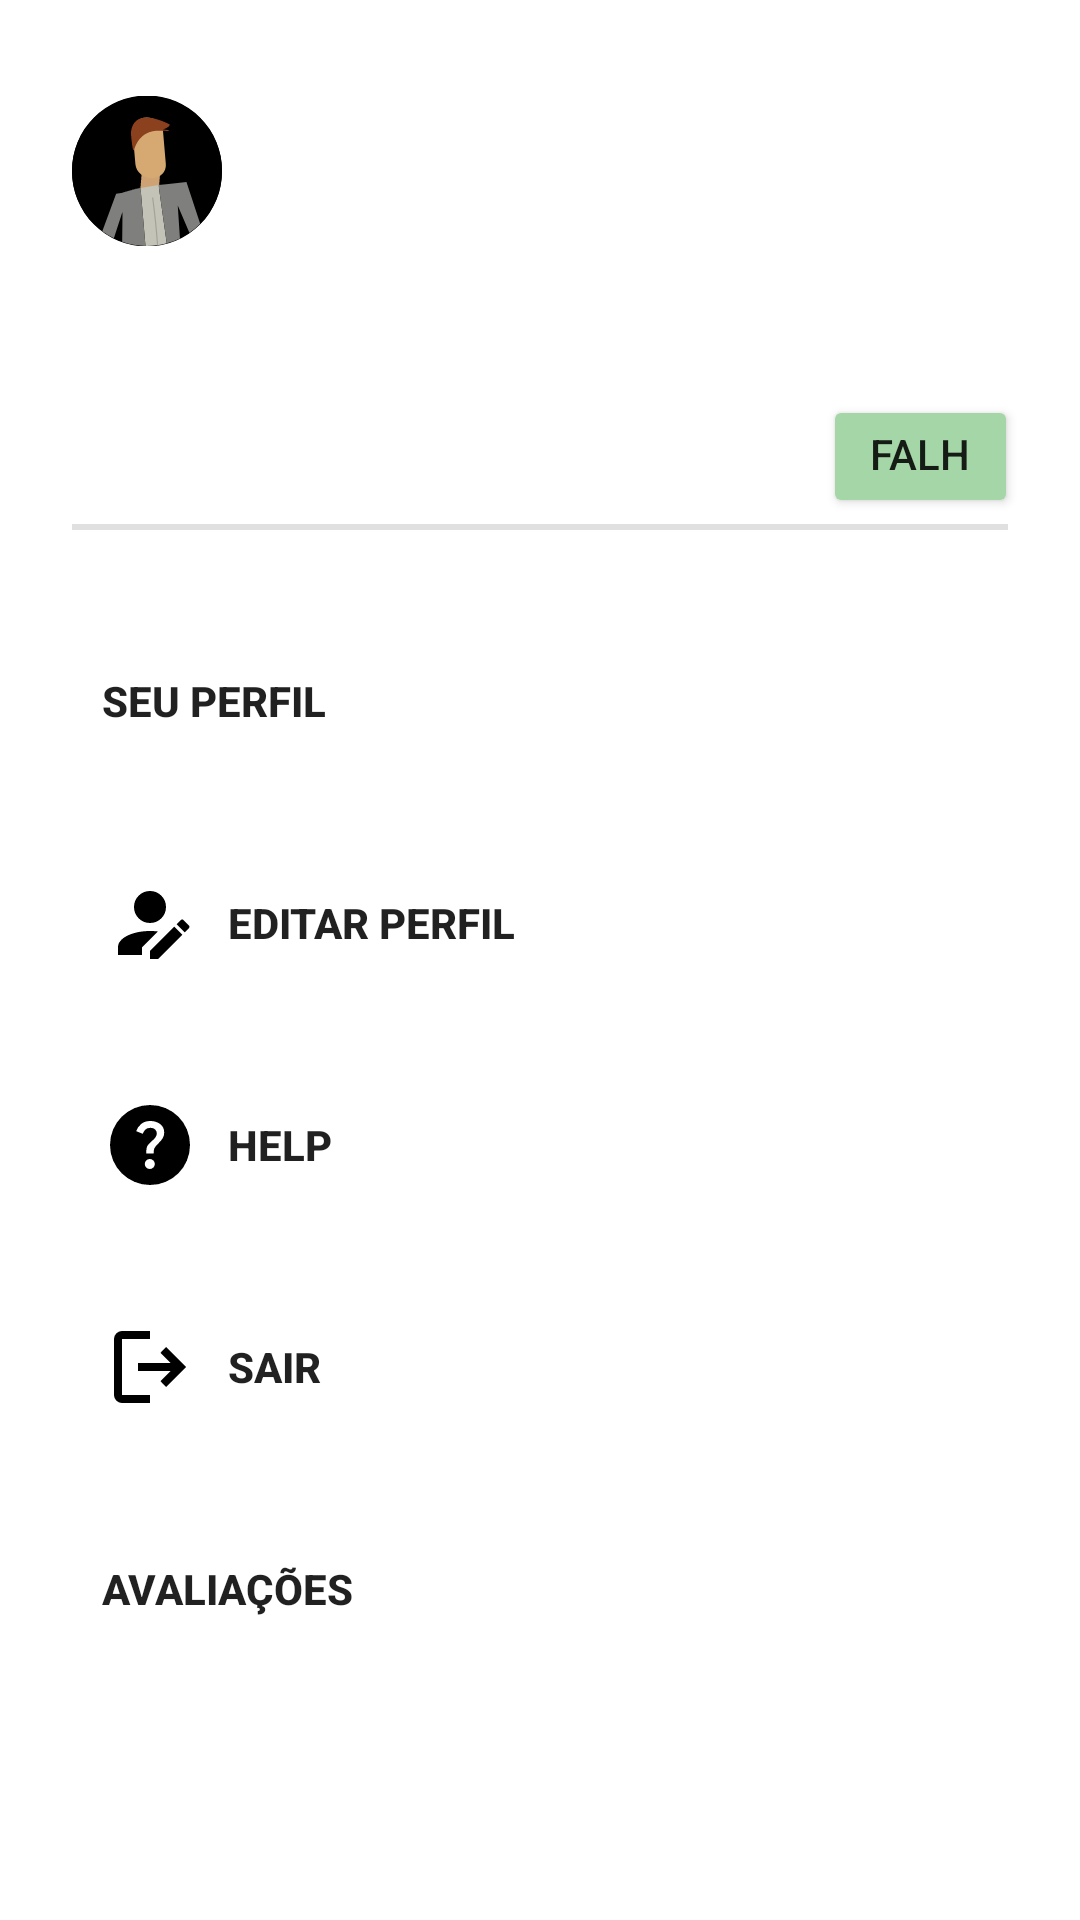

Named icons in this screenshot (1080 x 1920) and their centers, (x,y):
person male: (147,171)
